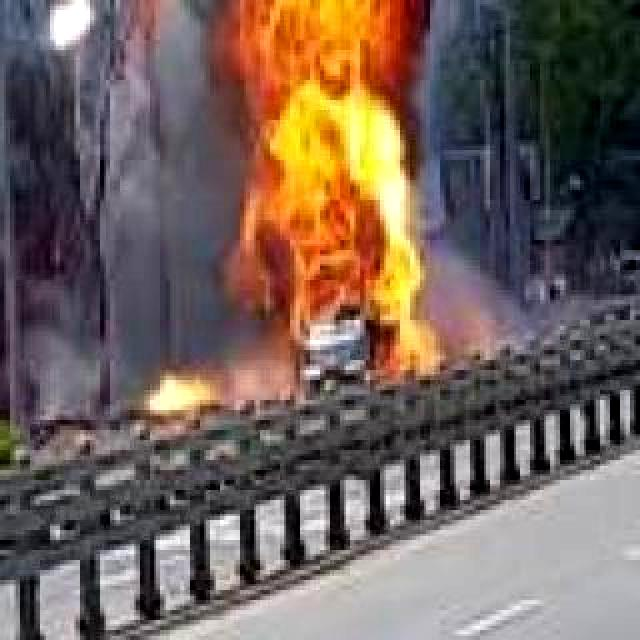fire: (254, 0, 412, 342), (152, 373, 222, 411)
